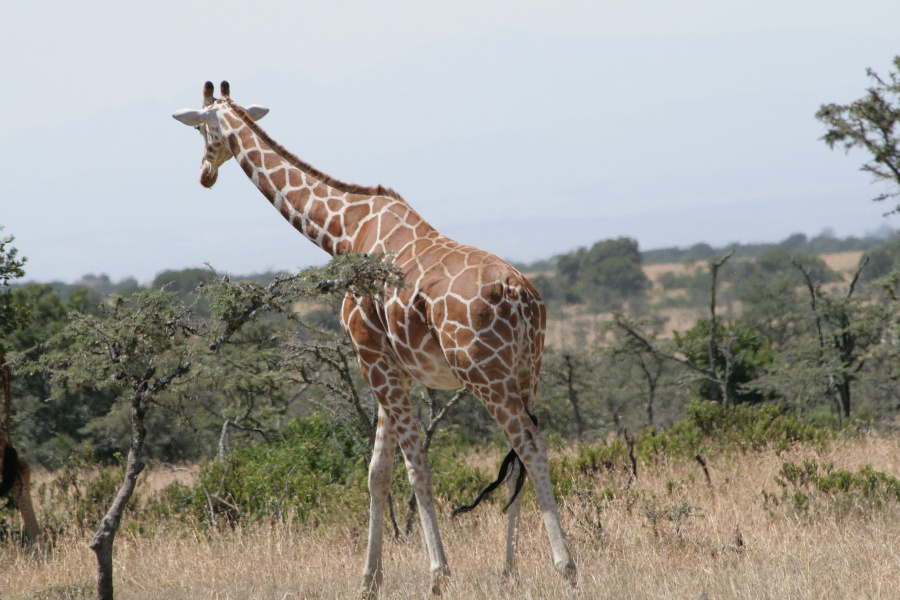giraffe: (169, 69, 593, 592)
